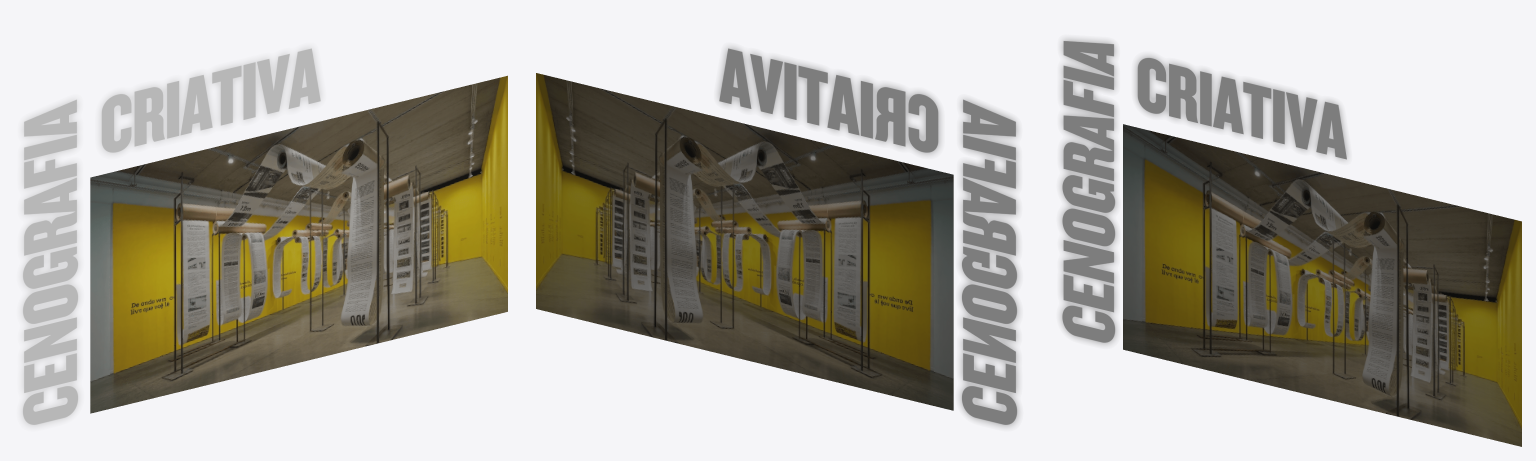
The model's file is FIRJAN_XR_Collection_6.glb.
3 views of the same model, side by side, from view 1: azimuth 30°, elevation 25°; view 2: azimuth 150°, elevation 25°; view 3: azimuth 330°, elevation 25° (orthographic). The views are drawn at different scales.
Parts seen in each view (by area): view 1: BOARD_06_cenografia_visual_electric, CENOGRAFIA, 06_cenografia_criativa; view 2: BOARD_06_cenografia_visual_electric, CENOGRAFIA, 06_cenografia_criativa; view 3: BOARD_06_cenografia_visual_electric, CENOGRAFIA, 06_cenografia_criativa.
Boxes of the visible parts, x1,y1,x2,y2 form: BOARD_06_cenografia_visual_electric: (90, 75, 507, 413); CENOGRAFIA: (20, 98, 80, 427); 06_cenografia_criativa: (98, 46, 322, 155); BOARD_06_cenografia_visual_electric: (536, 73, 953, 410); CENOGRAFIA: (959, 98, 1019, 427); 06_cenografia_criativa: (717, 46, 941, 155); BOARD_06_cenografia_visual_electric: (1123, 124, 1521, 446); CENOGRAFIA: (1059, 38, 1117, 345); 06_cenografia_criativa: (1134, 55, 1348, 161).
Size of the model in its own units: 8.3 by 5.62 by 0.0571.
Materials: 3 (3 with a texture image).
